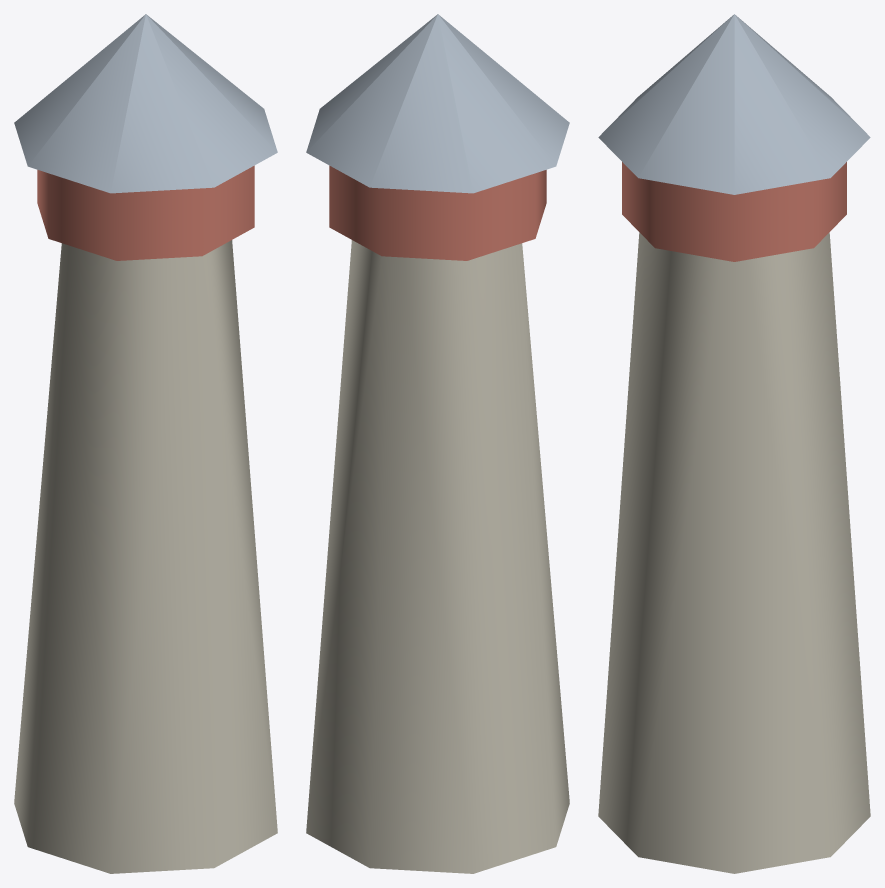
The picture shows the model from 3 angles, left to right: view 1: azimuth 30°, elevation 25°; view 2: azimuth 150°, elevation 25°; view 3: azimuth 270°, elevation 25°; orthographic projection.
Bounding box in the file's own units: 4 × 13 × 4.
